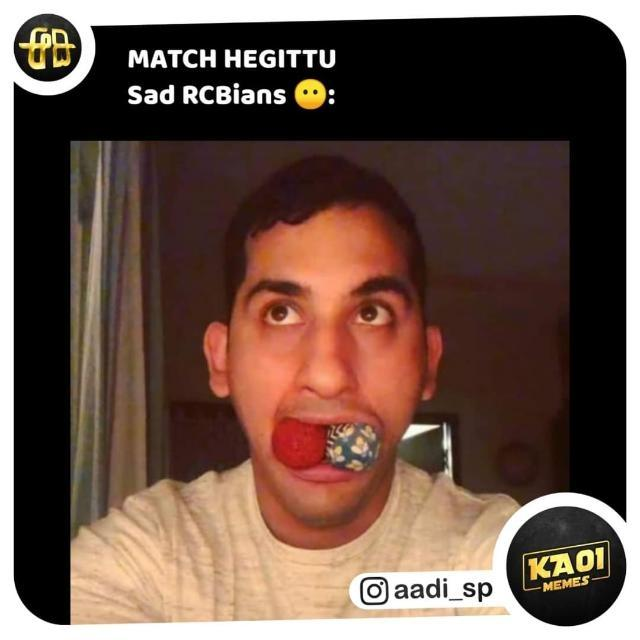person: (193, 183, 481, 592)
